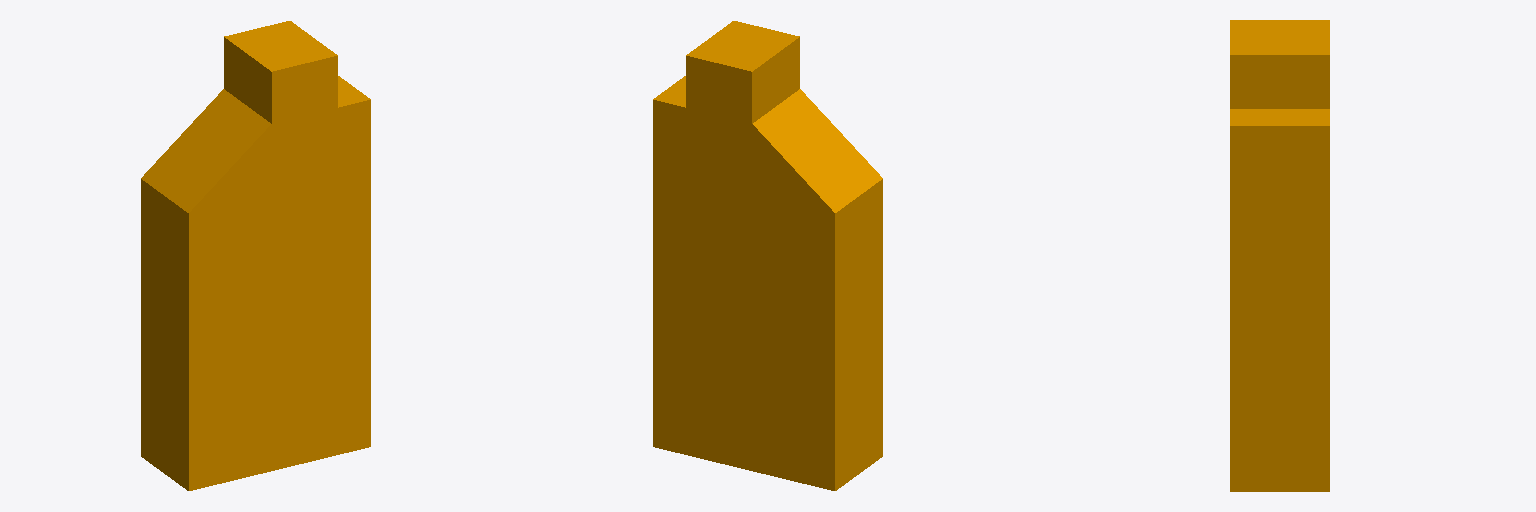
URDF robot description (oilBottleB):
<?xml version="1.0"?>
<robot name="oilBottleB">
	<link name="oilBottleB">
		<inertial>
			<!--origin xyz="0 0 0" rpy="0 0 0" /-->
			<mass value="0.5" />
			<!--inertia ixx="0.000360" ixy="0" ixz="0" iyy="0.0000615" iyz="0" izz="0.00036" /-->
		</inertial>
    		<visual>
	      		<!--origin rpy="0 0 0" xyz="0 0 0"/-->
      			<geometry>
        			<mesh filename="oilBottleB.obj"/>
      			</geometry>
         	</visual>
    		<collision>
      			<!--origin rpy="0 0 0" xyz="0 0 0"/-->
      			<geometry>
        			<mesh filename="oilBottleB.obj"/>
      			</geometry>
    		</collision>
	</link>
</robot>

--- What the picture shows (computed from the rendered views, not written in the file) ---
The picture shows the robot from 3 angles, left to right: view 1: azimuth 30°, elevation 25°; view 2: azimuth 150°, elevation 25°; view 3: azimuth 270°, elevation 25°; orthographic projection.
Model oilBottleB with 1 links and 0 joints (none), rooted at oilBottleB, posed all joints at 0.
Visible links, largest first — view 1: oilBottleB; view 2: oilBottleB; view 3: oilBottleB.
Boxes of the visible links, x1,y1,x2,y2 form: oilBottleB: (141, 21, 370, 490); oilBottleB: (653, 21, 882, 490); oilBottleB: (1230, 20, 1329, 491).
Bounding box of the posed robot: 0.11 × 0.05 × 0.23 m (x, y, z).
1 mesh visuals loaded from 1 distinct referenced files (1 OBJ).
